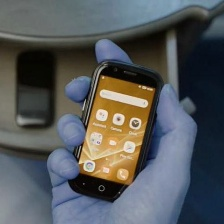phone: (57, 57, 170, 206), (10, 45, 60, 133)
